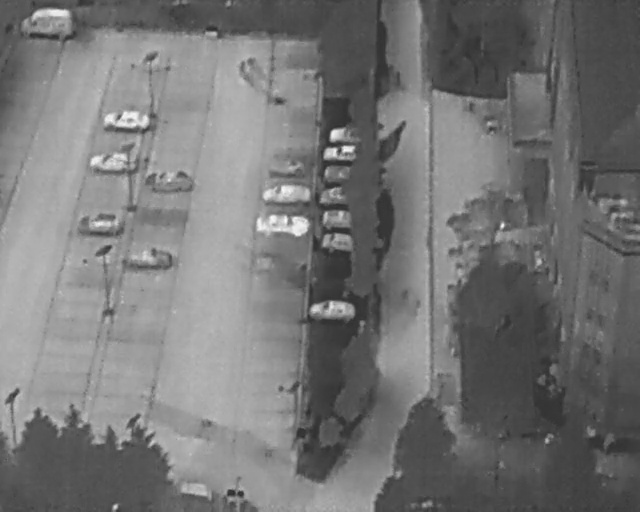Car: (19, 7, 73, 38), (257, 215, 310, 237), (308, 301, 356, 321), (147, 172, 192, 193), (102, 111, 148, 131), (262, 186, 312, 204), (79, 213, 120, 233), (88, 153, 130, 172), (129, 250, 173, 268), (321, 232, 355, 253), (321, 208, 353, 228), (323, 147, 360, 162), (329, 126, 360, 143), (323, 165, 352, 182), (320, 187, 352, 202)
